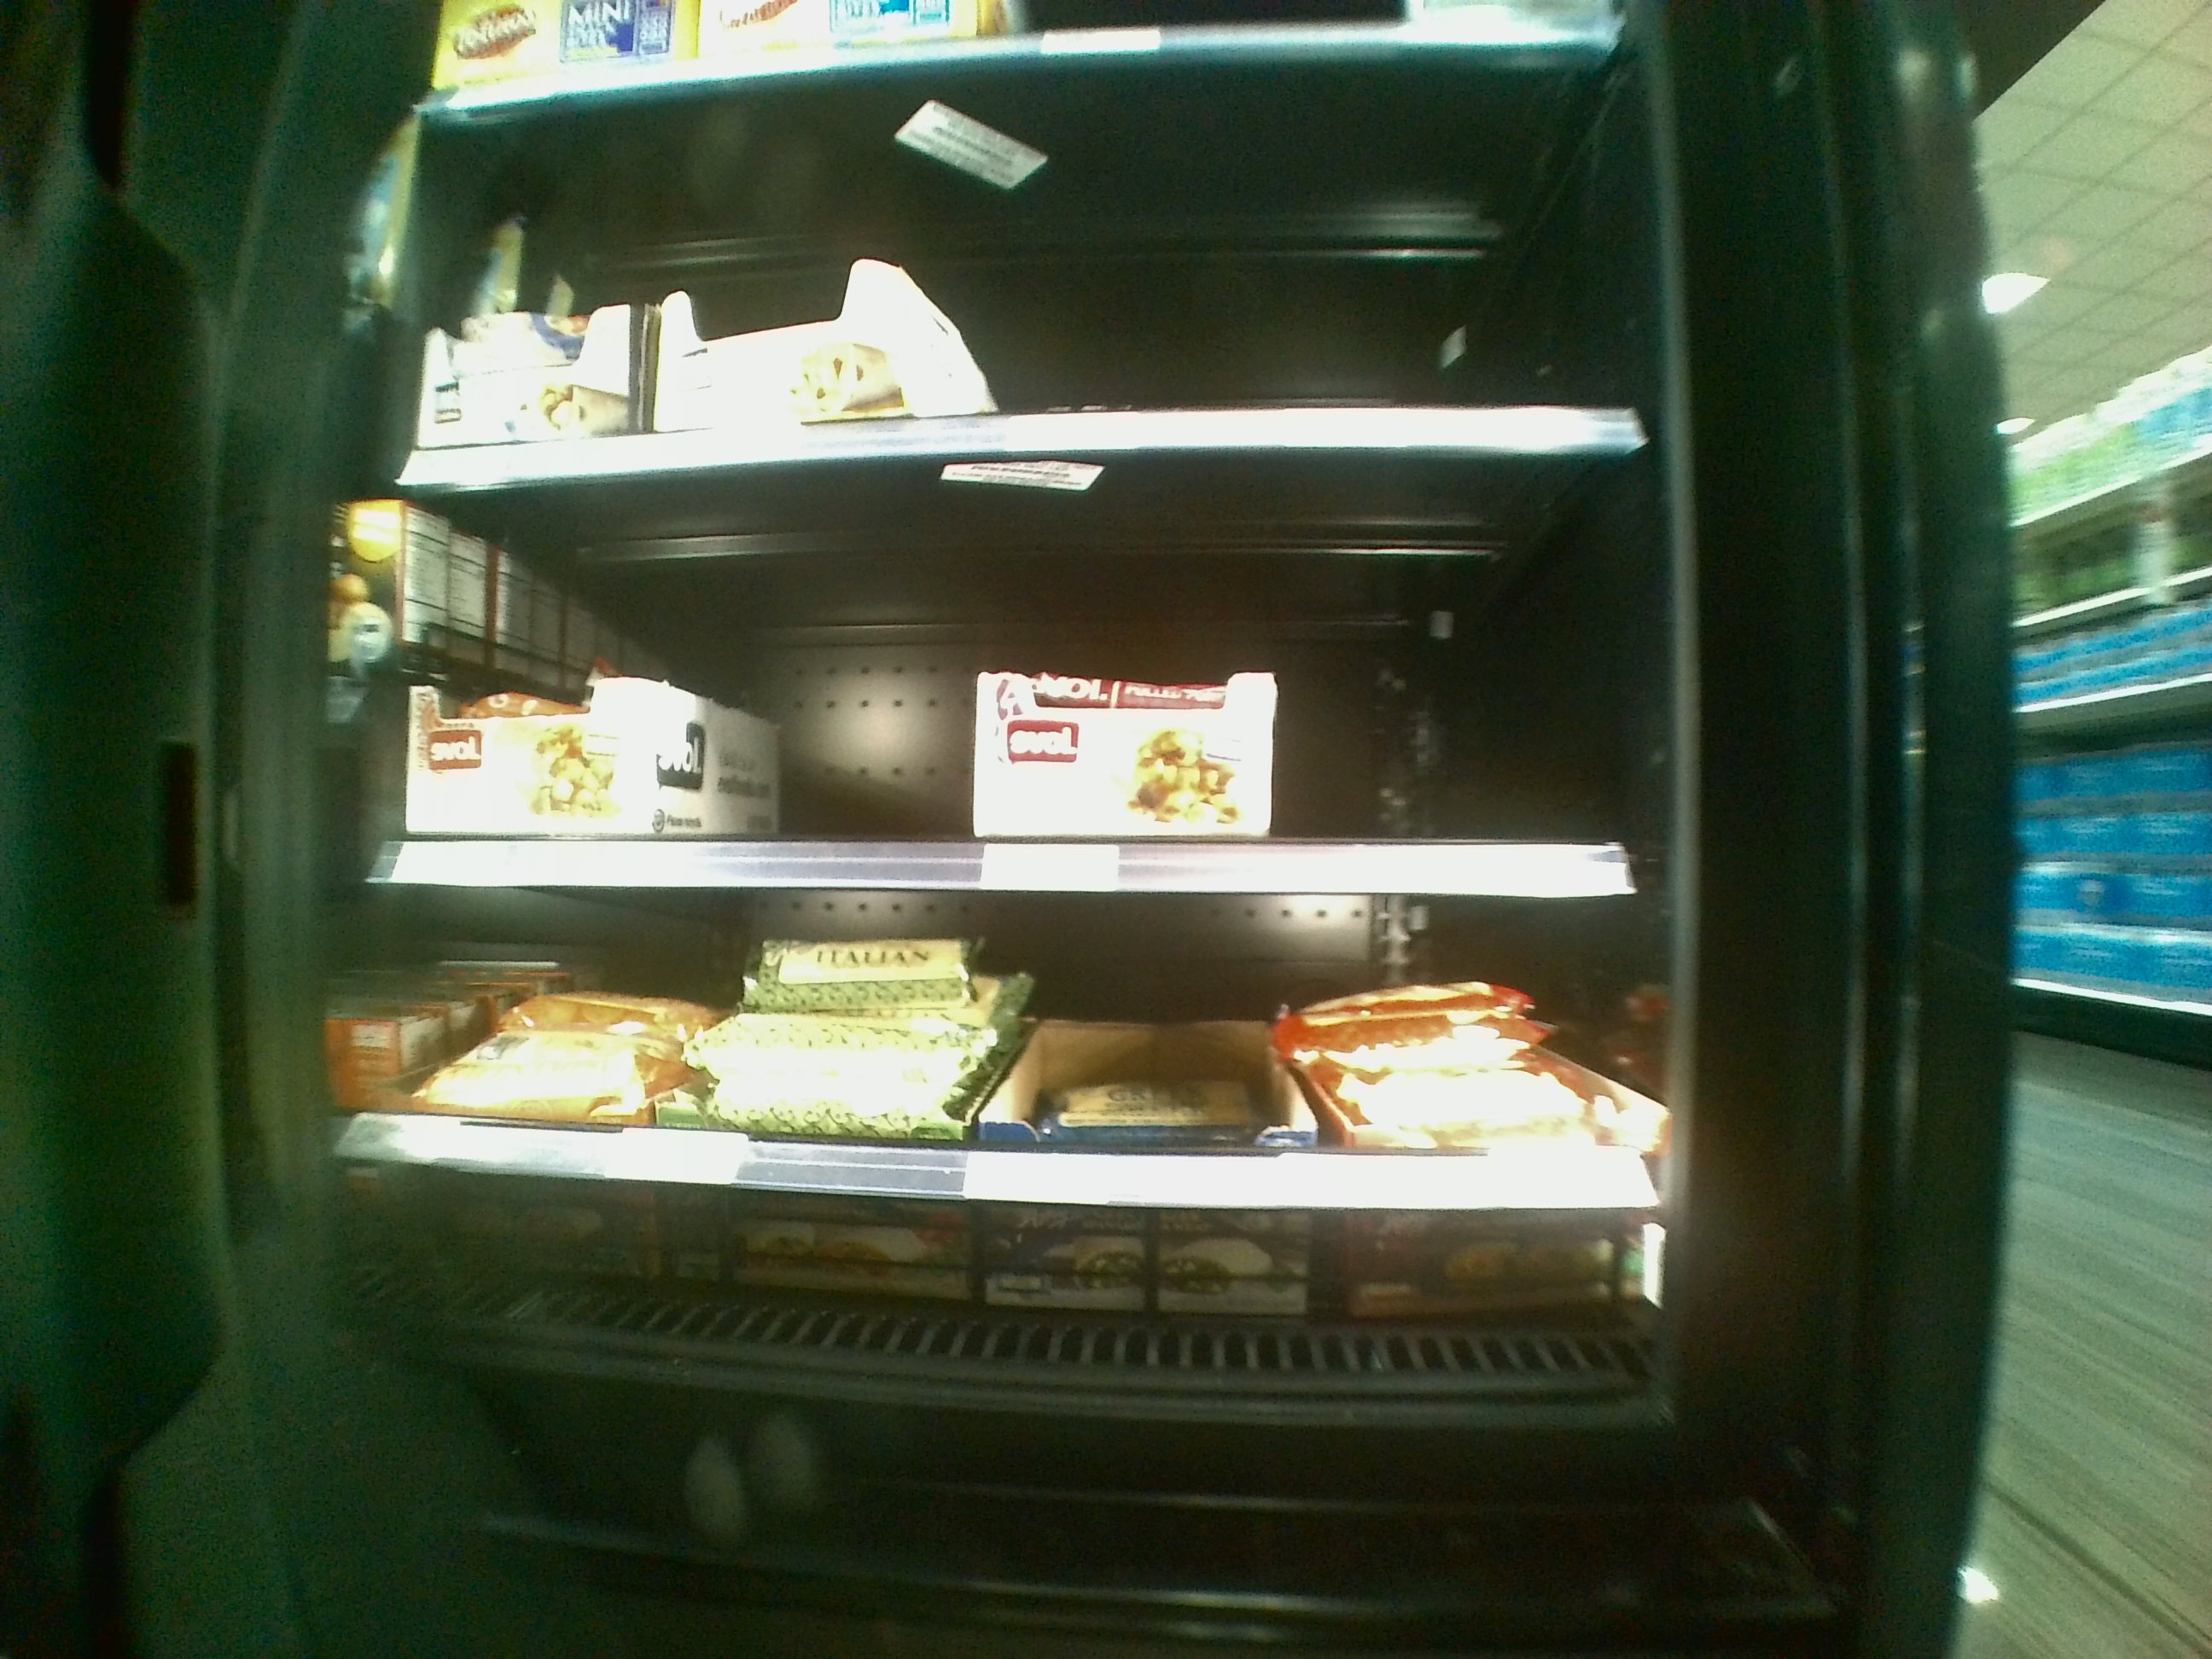shelf: (378, 896, 1648, 1378), (402, 500, 1649, 901), (404, 78, 1662, 476)
